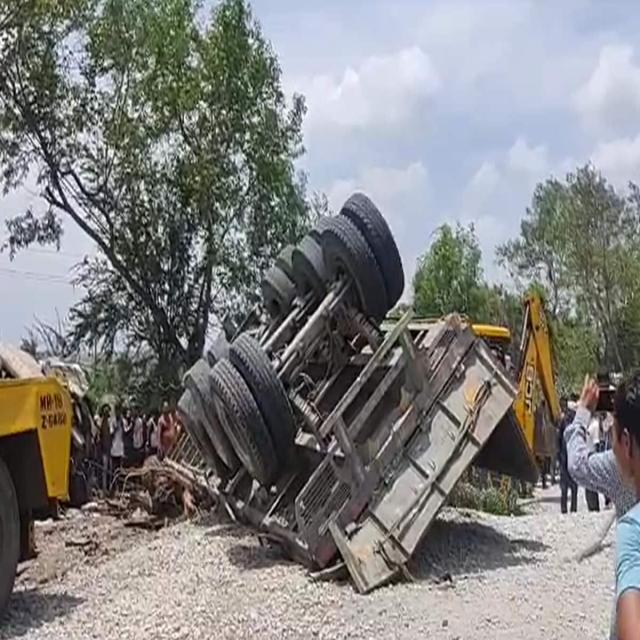truck: (179, 193, 516, 591)
